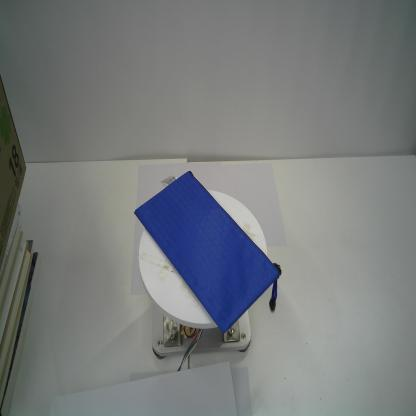Stationery: (133, 169, 284, 335)
